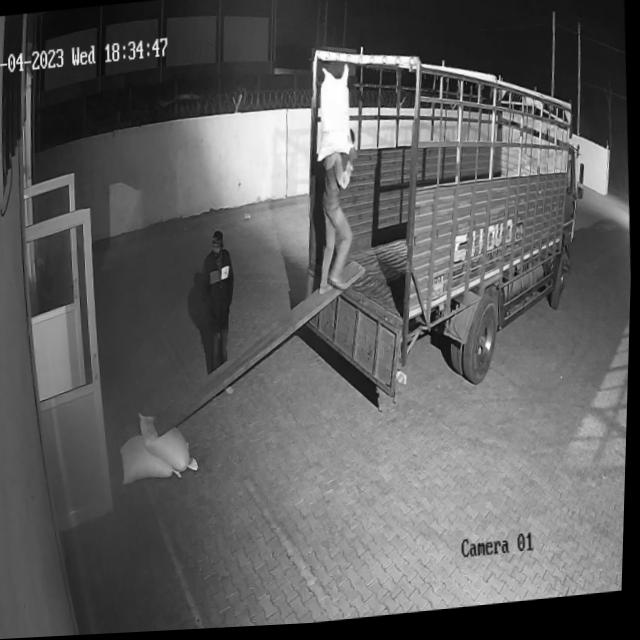sack: (313, 67, 358, 168), (139, 408, 203, 479), (122, 431, 187, 486)
